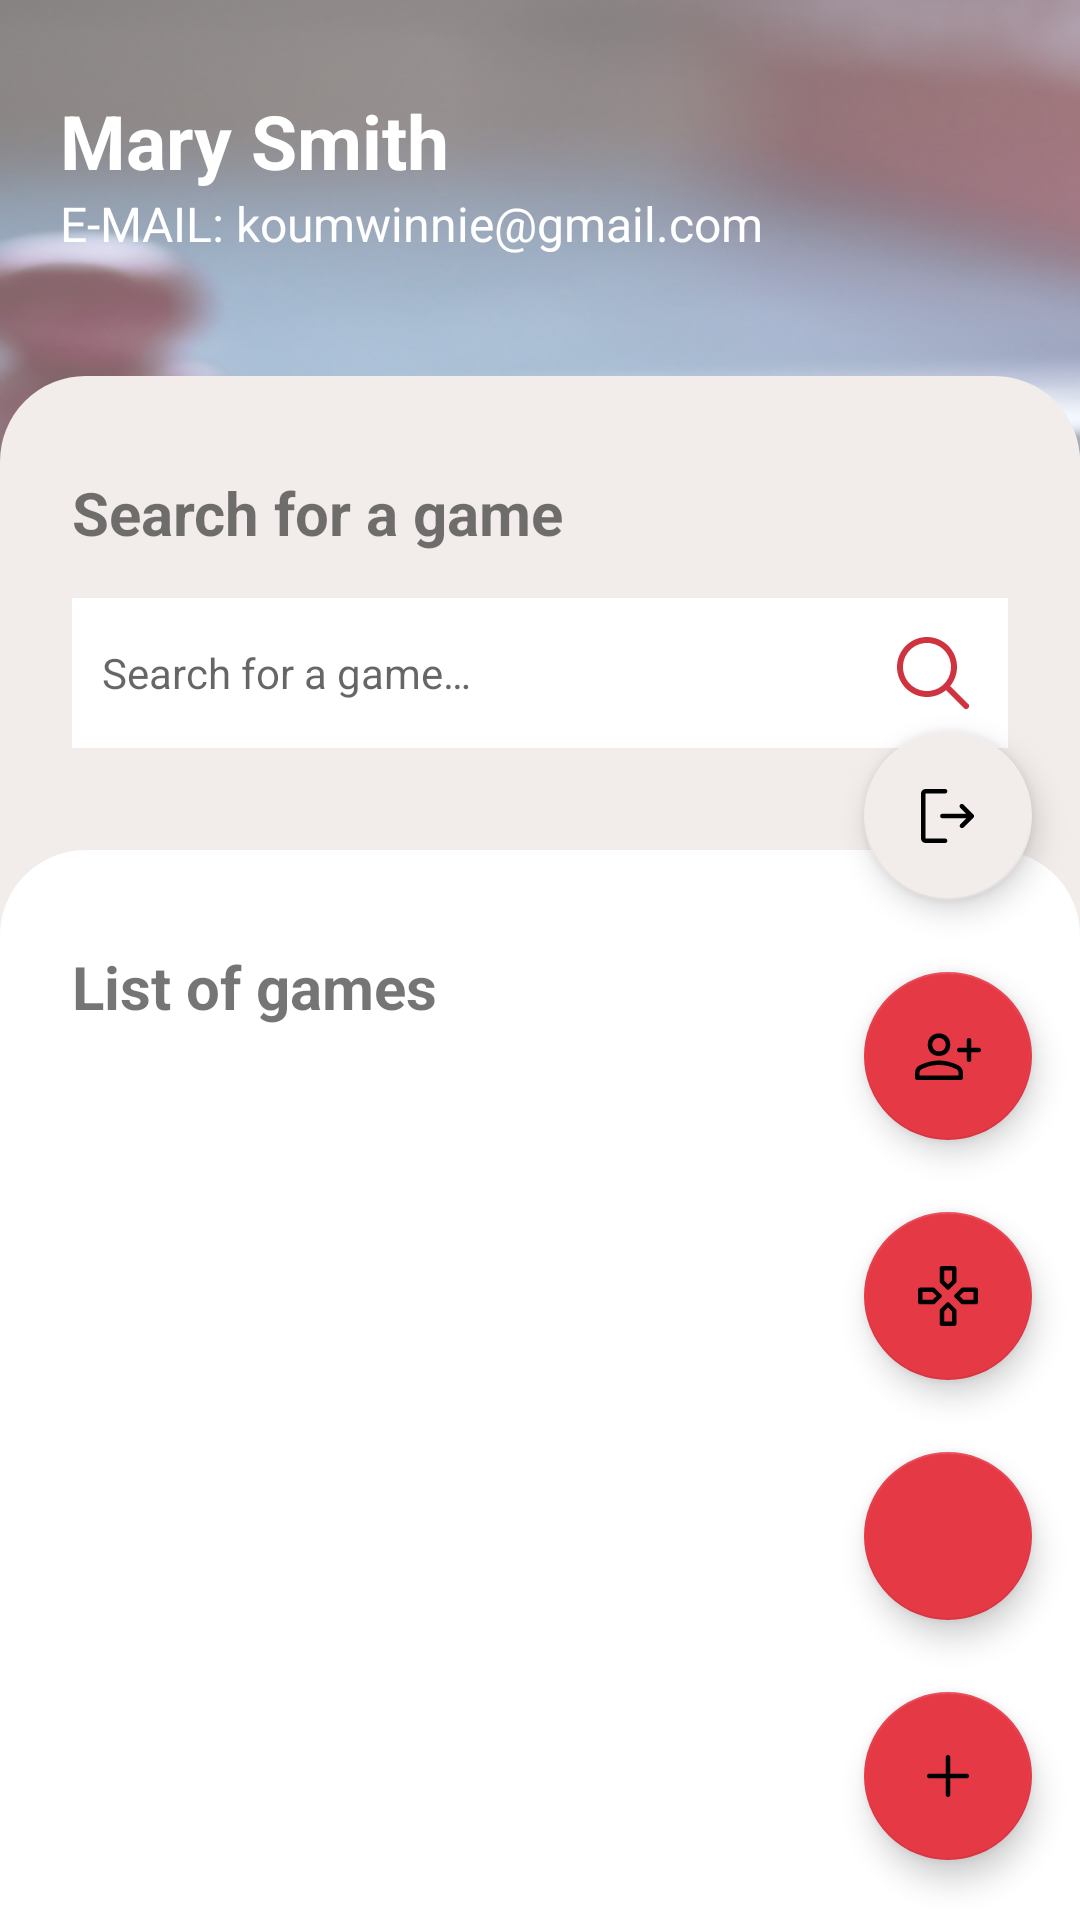

Icons on this 1080 × 1920 Android screen, each with its box as detection(x1, y1, x2, y2):
add plus: detection(864, 1692, 1032, 1860)
gamepad: detection(864, 1212, 1032, 1380)
person add: detection(864, 972, 1032, 1140)
